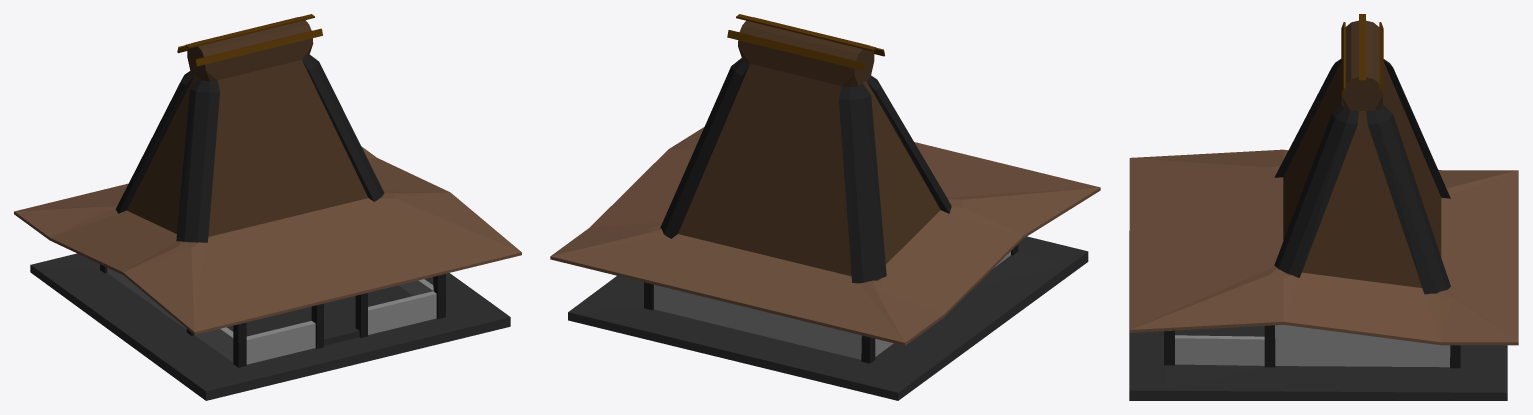
Rendered from Rumah adat.dae.
3 renders of one model, left to right at view 1: azimuth 30°, elevation 25°; view 2: azimuth 150°, elevation 25°; view 3: azimuth 270°, elevation 25°, orthographic. The views are drawn at different scales.
Visible parts, largest first — view 1: 1. Rumah adat; view 2: 1. Rumah adat; view 3: 1. Rumah adat.
Boxes of the visible parts, bbox=[...] form: 1. Rumah adat: bbox=[14, 14, 521, 400]; 1. Rumah adat: bbox=[550, 14, 1100, 400]; 1. Rumah adat: bbox=[1129, 14, 1518, 400].
Size of the model in its own units: 35.27 by 33.72 by 26.16.
